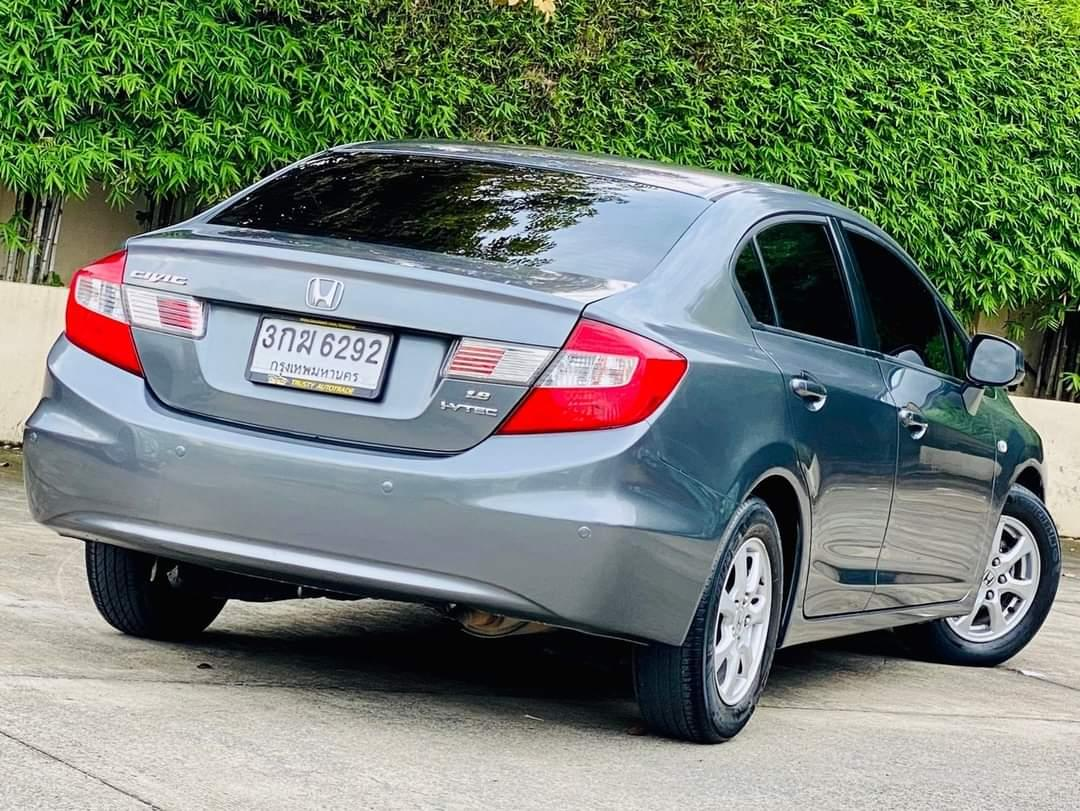license-plate: (240, 301, 408, 410)
